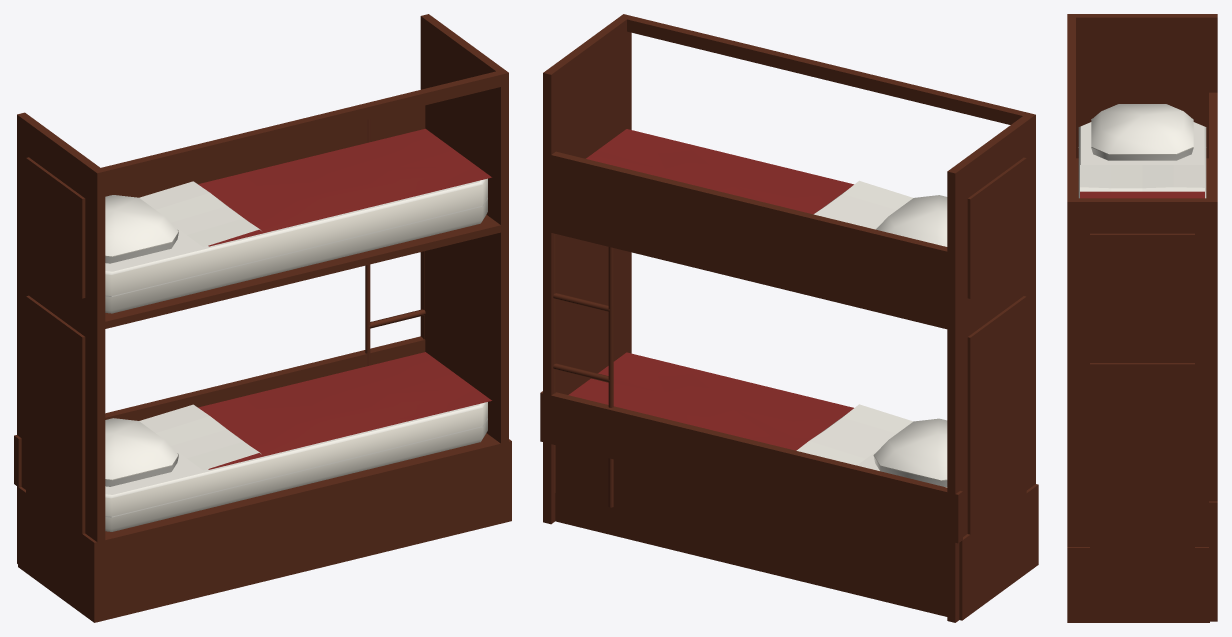
File: parametric-sized-berth-double-l180w60-2nd.glb
3 renders of one model, left to right at view 1: azimuth 30°, elevation 25°; view 2: azimuth 150°, elevation 25°; view 3: azimuth 270°, elevation 25°, orthographic. The views are drawn at different scales.
Parts seen in each view (by area): view 1: parametric-sized-berth-double-l180w60-2nd; view 2: parametric-sized-berth-double-l180w60-2nd; view 3: parametric-sized-berth-double-l180w60-2nd.
Boxes of the visible parts, bbox=[...] form: parametric-sized-berth-double-l180w60-2nd: bbox=[14, 14, 511, 622]; parametric-sized-berth-double-l180w60-2nd: bbox=[540, 14, 1038, 622]; parametric-sized-berth-double-l180w60-2nd: bbox=[1067, 14, 1217, 622].
Size of the model in its own units: 1.8 by 1.85 by 0.6.
